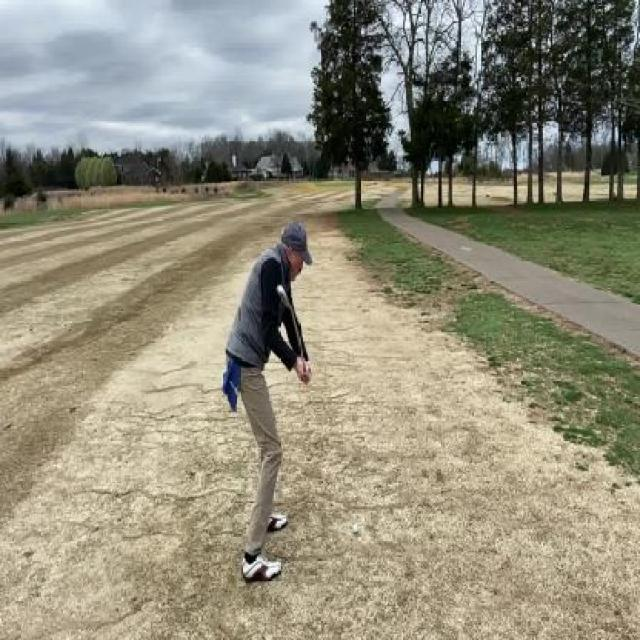club head: (276, 283, 293, 314)
